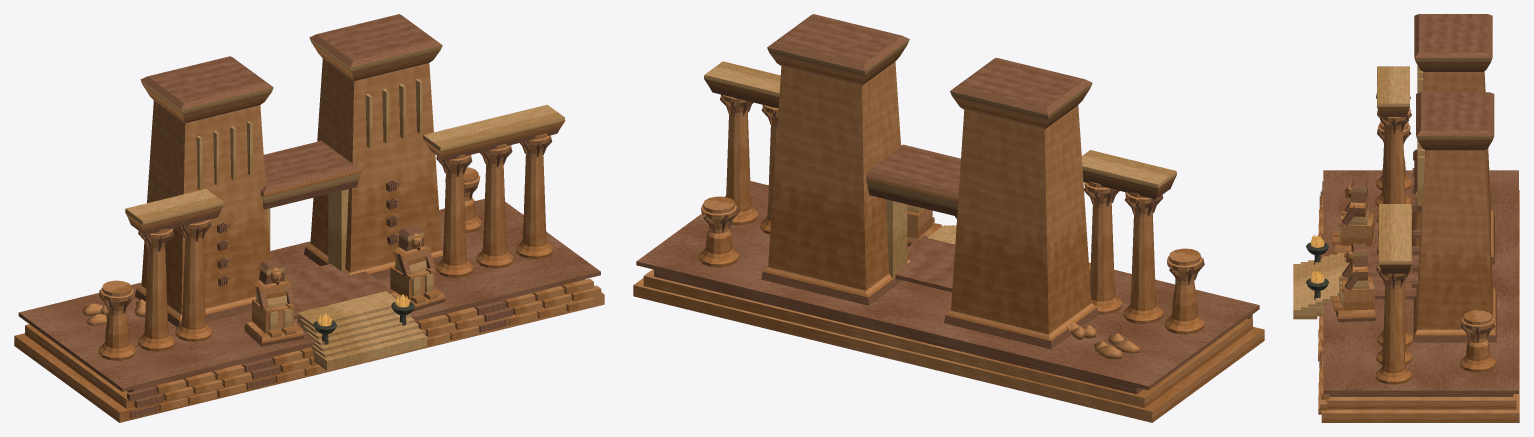
Rendered from nile_colonnade_ruin_mid.glb.
3 renders of one model, left to right at view 1: azimuth 30°, elevation 25°; view 2: azimuth 150°, elevation 25°; view 3: azimuth 270°, elevation 25°, orthographic. The views are drawn at different scales.
Visible parts, largest first — view 1: nile_colonnade_ruin_mid; view 2: nile_colonnade_ruin_mid; view 3: nile_colonnade_ruin_mid.
Boxes of the visible parts, x1=… form: nile_colonnade_ruin_mid: x1=14, y1=14, x2=604, y2=422; nile_colonnade_ruin_mid: x1=633, y1=14, x2=1264, y2=422; nile_colonnade_ruin_mid: x1=1293, y1=14, x2=1519, y2=422.
Bounding box in the file's own units: 28 × 14 × 12.
2 materials, 2 textured.
